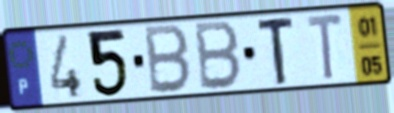4: (48, 32, 84, 100)
5: (83, 26, 132, 99)
B: (144, 22, 194, 96), (194, 19, 244, 93)
T: (304, 11, 346, 85), (256, 13, 297, 88)
